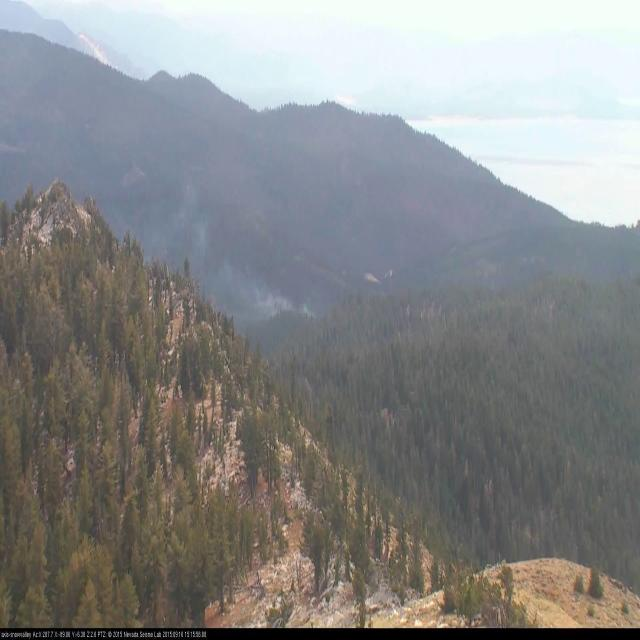smoke: (174, 168, 325, 324)
